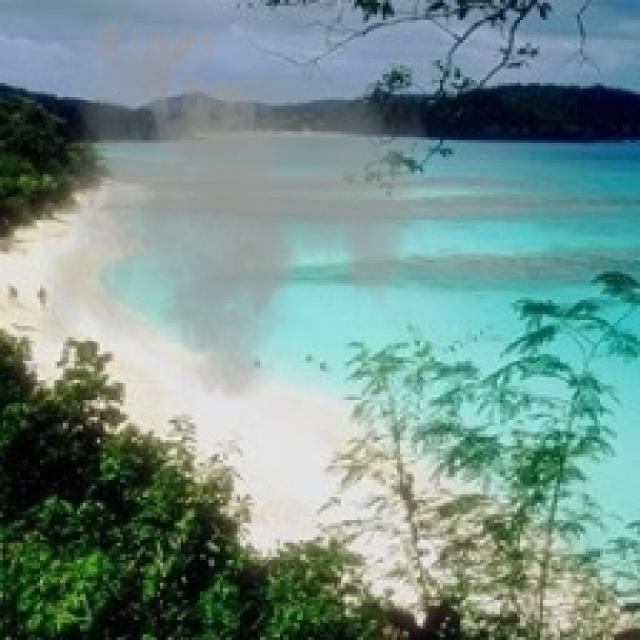Smoke: (40, 0, 429, 417)
